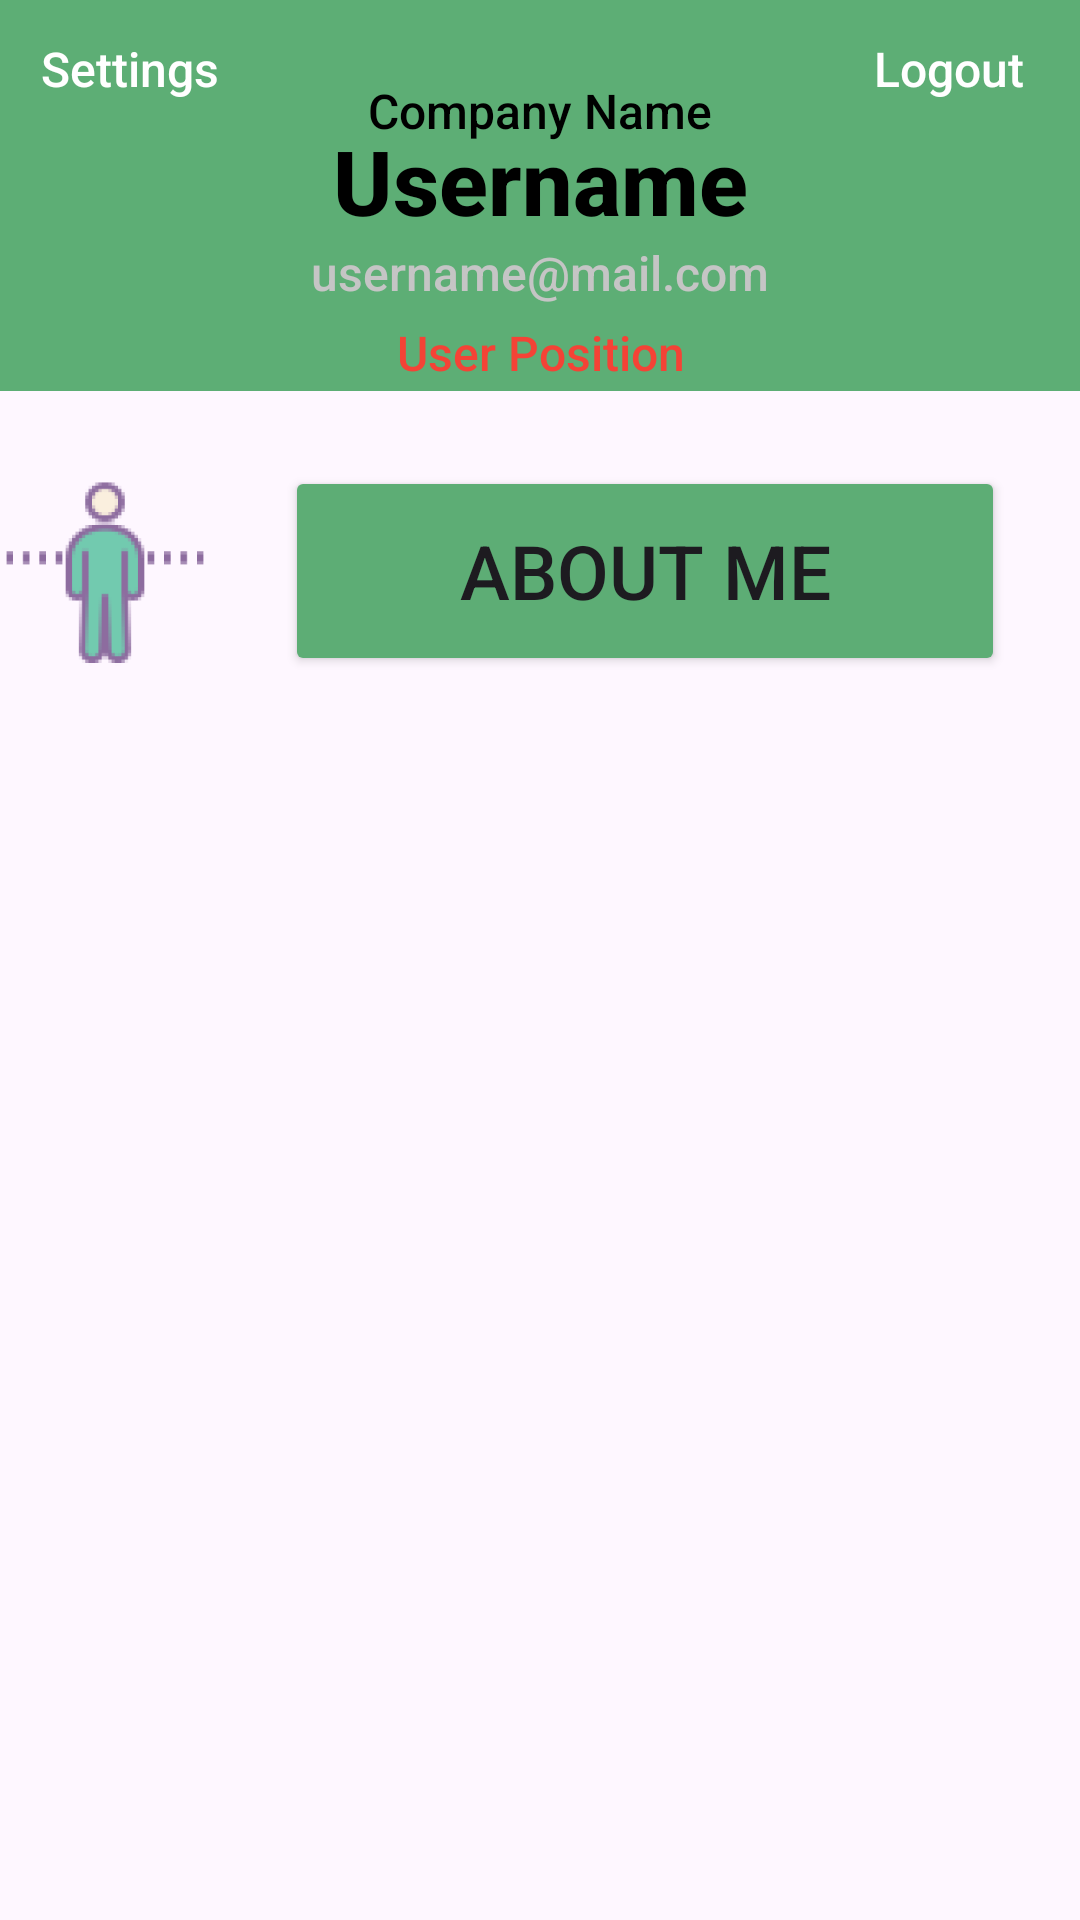

Screen size 1080×1920. Icon name, then its center in pixels as [x,y]:
person: [105,572]
